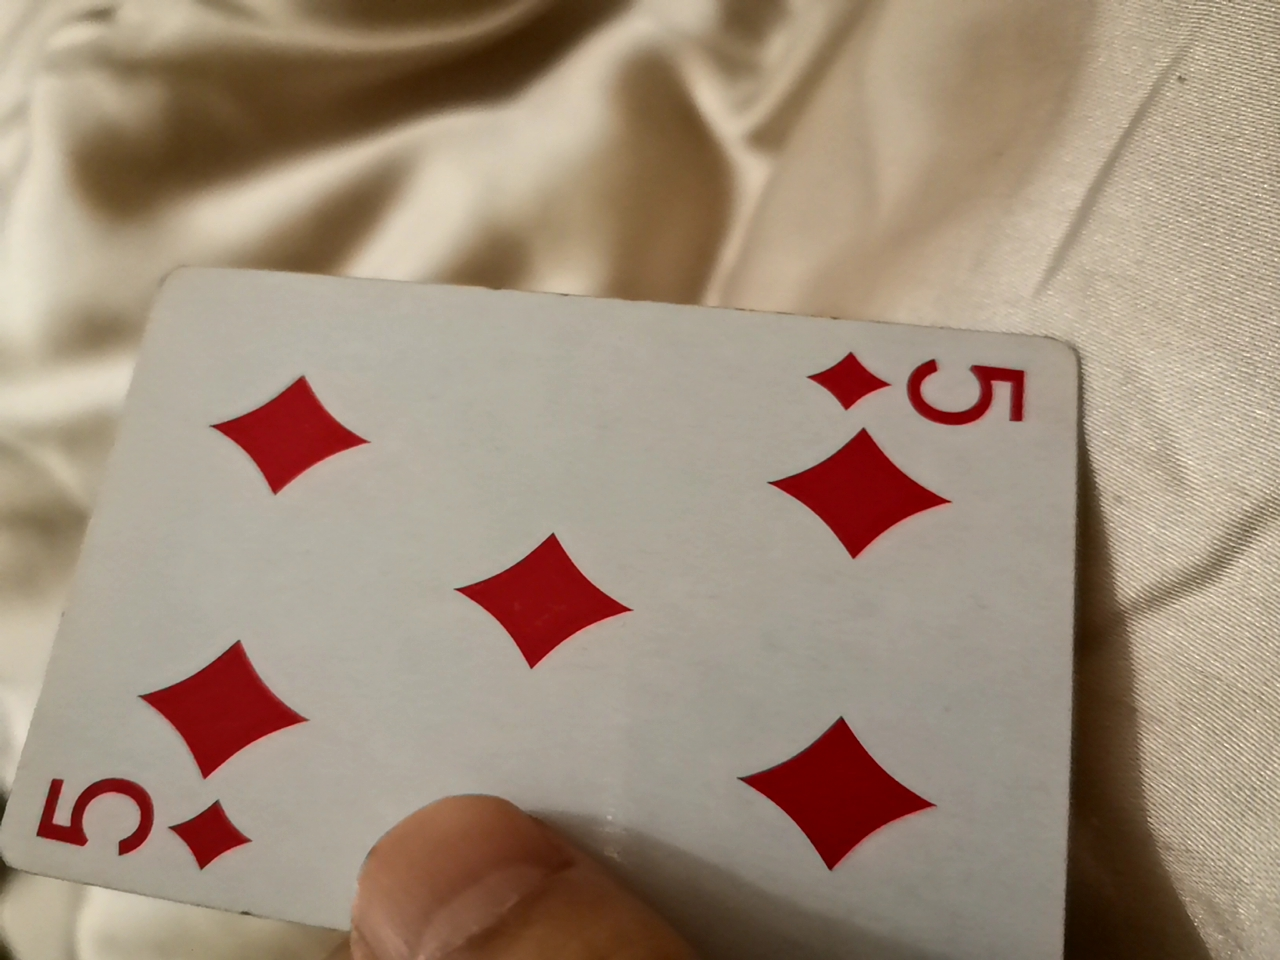fk 5: (11, 260, 1089, 953)
